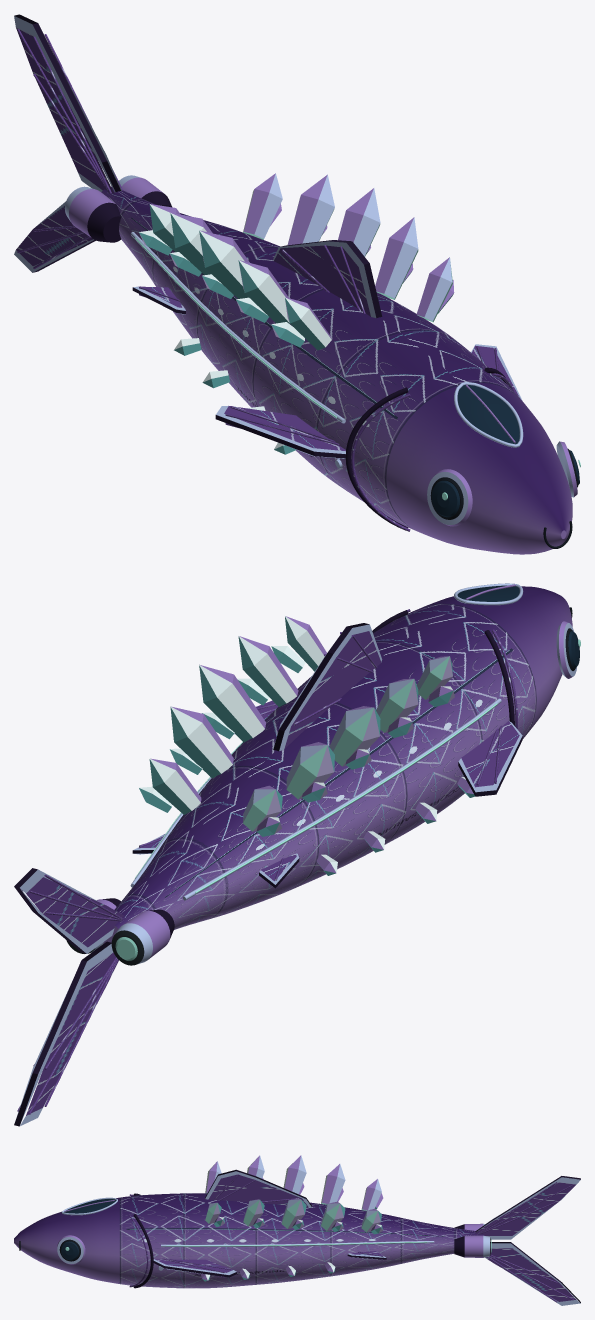
3 renders of one model, top to bottom at view 1: azimuth 30°, elevation 25°; view 2: azimuth 150°, elevation 25°; view 3: azimuth 270°, elevation 25°, orthographic. The views are drawn at different scales.
Parts seen in each view (by area): view 1: sardine_hull; view 2: sardine_hull; view 3: sardine_hull.
Boxes of the visible parts, x1,y1,x2,y2 form: sardine_hull: [14, 14, 580, 554]; sardine_hull: [14, 583, 580, 1126]; sardine_hull: [14, 1155, 580, 1305].
Size of the model in its own units: 4.8 by 4.25 by 16.2.
1 material, 1 textured.
